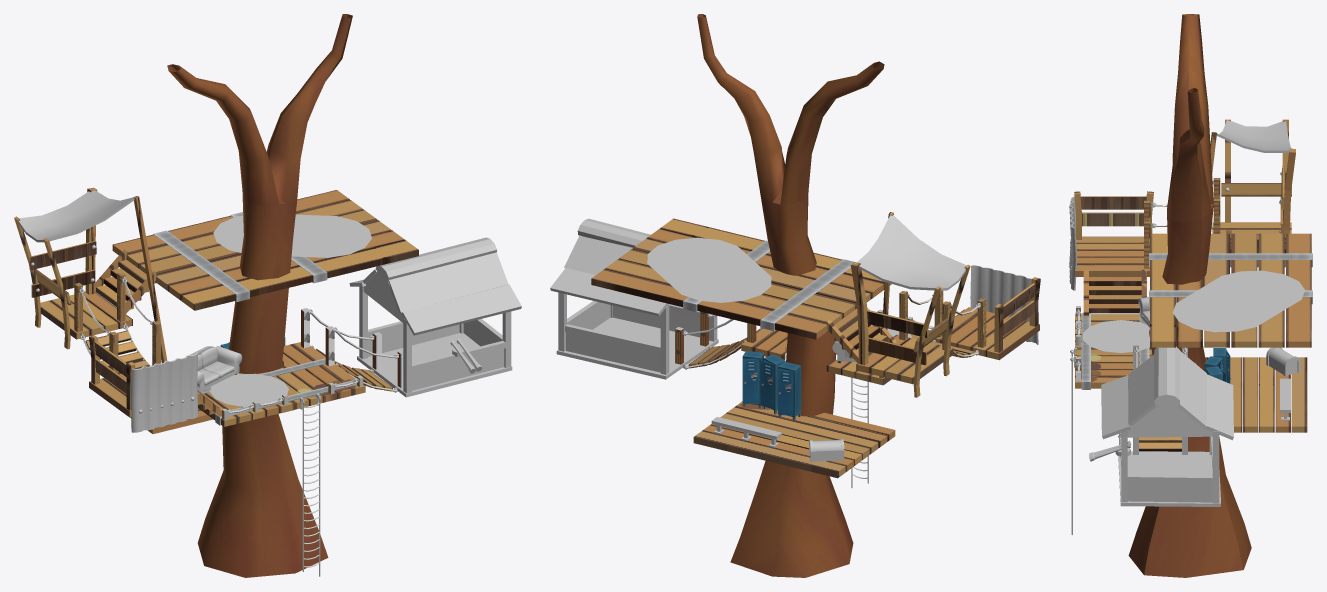
File: TreeHouse_Model.FBX
The picture shows the model from 3 angles, left to right: view 1: azimuth 30°, elevation 25°; view 2: azimuth 150°, elevation 25°; view 3: azimuth 270°, elevation 25°; orthographic projection.
Parts seen in each view (by area): view 1: Tree_house, Box048, Object005, Plane001, Cylinder004, Plane002, Box084, Cylinder003, Box168, Couch_01, Box135; view 2: Box048, Tree_house, Object005, Cylinder004, Plane002, Plane001, Box084, Locker_01, Box168, Locker_003, Locker_002, Box157 (+1 smaller); view 3: Box048, Tree_house, Object005, Cylinder004, Box084, Cylinder003, Plane002, Cylinder005, Plane001, Box157, Box168, Box135 (+1 smaller).
Boxes of the visible parts, x1=… form: Tree_house: x1=167, y1=14, x2=352, y2=577; Box048: x1=14, y1=187, x2=418, y2=433; Object005: x1=349, y1=237, x2=521, y2=397; Plane001: x1=131, y1=352, x2=198, y2=432; Cylinder004: x1=213, y1=214, x2=371, y2=257; Plane002: x1=18, y1=189, x2=135, y2=242; Box084: x1=153, y1=212, x2=356, y2=425; Cylinder003: x1=210, y1=373, x2=288, y2=406; Box168: x1=301, y1=308, x2=403, y2=391; Couch_01: x1=189, y1=346, x2=242, y2=391; Box135: x1=300, y1=393, x2=320, y2=576; Box048: x1=591, y1=212, x2=1040, y2=478; Tree_house: x1=697, y1=14, x2=884, y2=577; Object005: x1=550, y1=218, x2=718, y2=379; Cylinder004: x1=647, y1=237, x2=771, y2=302; Plane002: x1=855, y1=213, x2=967, y2=290; Plane001: x1=970, y1=265, x2=1038, y2=344; Box084: x1=683, y1=240, x2=855, y2=330; Locker_01: x1=777, y1=362, x2=801, y2=420; Box168: x1=675, y1=311, x2=756, y2=368; Locker_003: x1=742, y1=351, x2=763, y2=408; Locker_002: x1=761, y1=354, x2=785, y2=414; Box157: x1=711, y1=417, x2=781, y2=447; Box048: x1=1074, y1=119, x2=1311, y2=451; Tree_house: x1=1128, y1=14, x2=1251, y2=577; Object005: x1=1089, y1=346, x2=1233, y2=506; Cylinder004: x1=1172, y1=270, x2=1305, y2=332; Box084: x1=1081, y1=253, x2=1312, y2=389; Cylinder003: x1=1083, y1=320, x2=1149, y2=352; Plane002: x1=1214, y1=119, x2=1292, y2=152; Cylinder005: x1=1266, y1=347, x2=1300, y2=376; Plane001: x1=1069, y1=196, x2=1077, y2=290; Box157: x1=1280, y1=378, x2=1290, y2=420; Box168: x1=1133, y1=342, x2=1187, y2=454; Box135: x1=1070, y1=348, x2=1076, y2=534.
Bounding box in the file's own units: 1.99 × 1.03 × 2.35.
